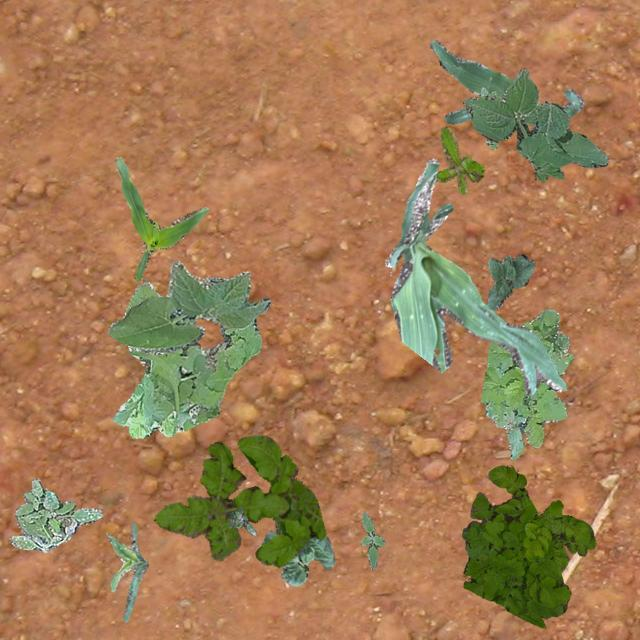crop: (384, 158, 566, 394), (106, 260, 270, 354), (428, 40, 582, 124), (115, 156, 208, 280), (260, 518, 334, 584), (106, 522, 148, 620), (486, 252, 534, 310)
weed: (112, 278, 260, 436), (153, 434, 324, 566), (460, 466, 594, 626), (462, 68, 608, 180), (480, 307, 572, 458), (8, 476, 102, 550), (434, 126, 484, 192), (360, 511, 384, 568), (479, 86, 496, 148), (227, 506, 254, 534)
